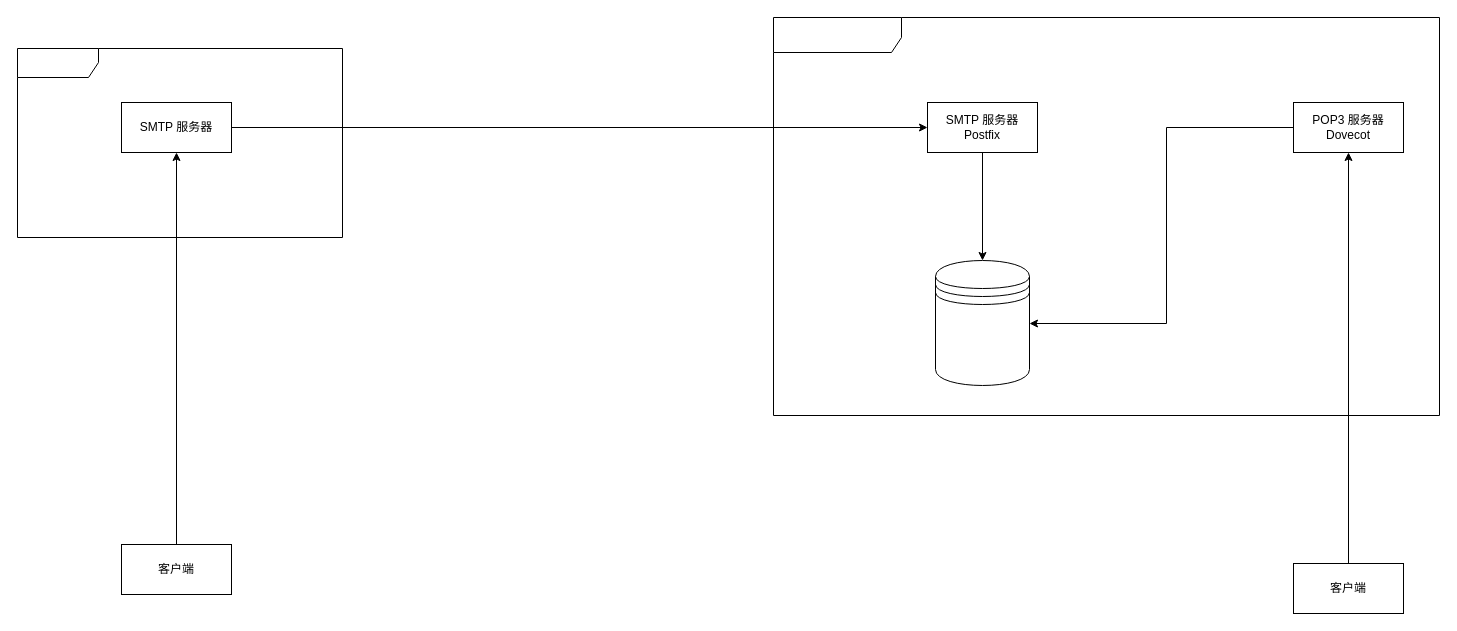
Some shapes in this 1457 by 631 pixel diagram are drawn without their labels. The box of each missing label's shape, as (x1, y1, x2, y2) in pixels:
cuishuhao.com: (772, 16, 1440, 416)
qq.com: (16, 48, 342, 238)
